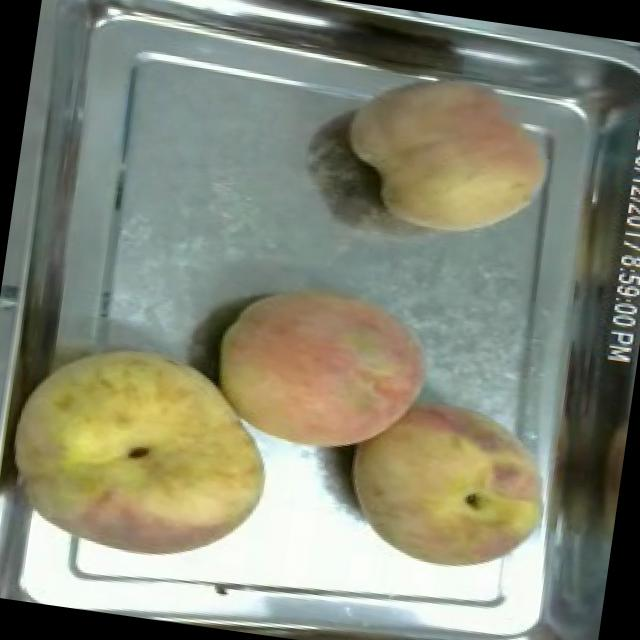Fruit: (0, 323, 292, 582), (195, 264, 442, 472), (332, 382, 568, 588), (326, 54, 566, 256)
